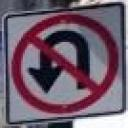NoVirarU: (10, 13, 122, 115)
